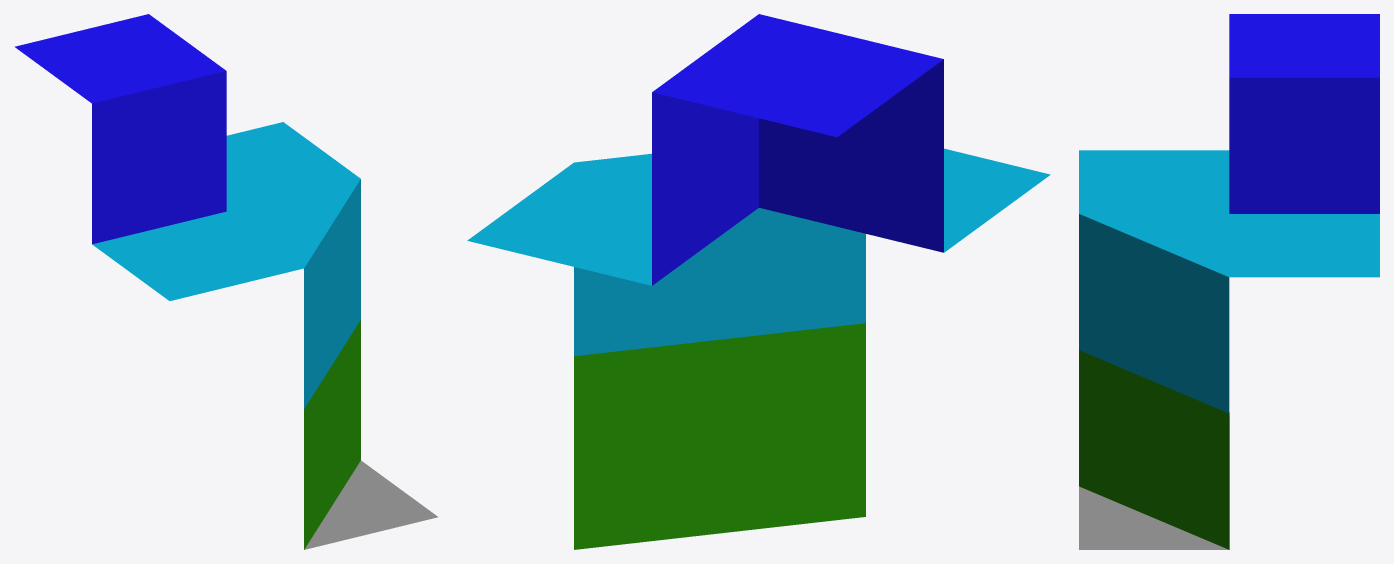
The picture shows the model from 3 angles, left to right: view 1: azimuth 30°, elevation 25°; view 2: azimuth 150°, elevation 25°; view 3: azimuth 270°, elevation 25°; orthographic projection. The views are drawn at different scales.
Parts seen in each view (by area): view 1: T_277_0_0; view 2: T_277_0_0; view 3: T_277_0_0.
Boxes of the visible parts, x1,y1,x2,y2 form: T_277_0_0: (14, 14, 438, 549); T_277_0_0: (467, 14, 1050, 549); T_277_0_0: (1079, 14, 1379, 549).
Bounding box in the file's own units: 99.79 × 150 × 99.81.
